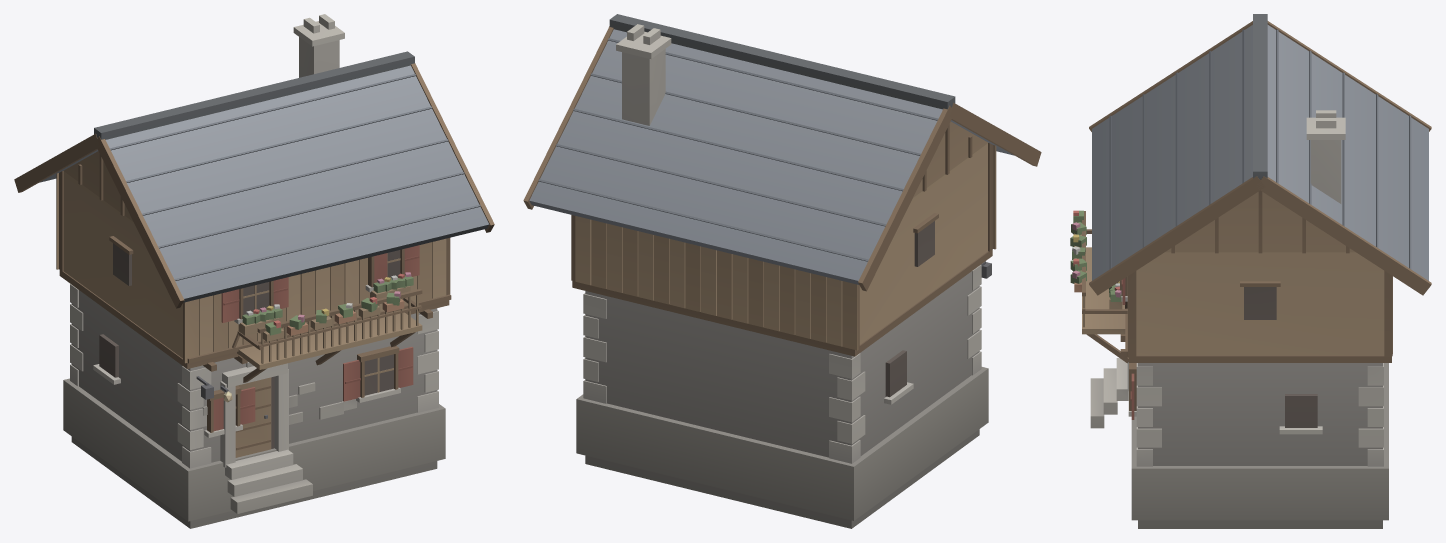
File: vl_house_a.glb
3 renders of one model, left to right at view 1: azimuth 30°, elevation 25°; view 2: azimuth 150°, elevation 25°; view 3: azimuth 270°, elevation 25°, orthographic. The views are drawn at different scales.
Visible parts, largest first — view 1: vl_house_a; view 2: vl_house_a; view 3: vl_house_a.
Part boxes in pixels (bbox=[...]): vl_house_a: bbox=[14, 14, 494, 528]; vl_house_a: bbox=[523, 14, 1041, 528]; vl_house_a: bbox=[1070, 14, 1431, 528].
Bounding box in the file's own units: 9.16 × 10.81 × 8.85.
